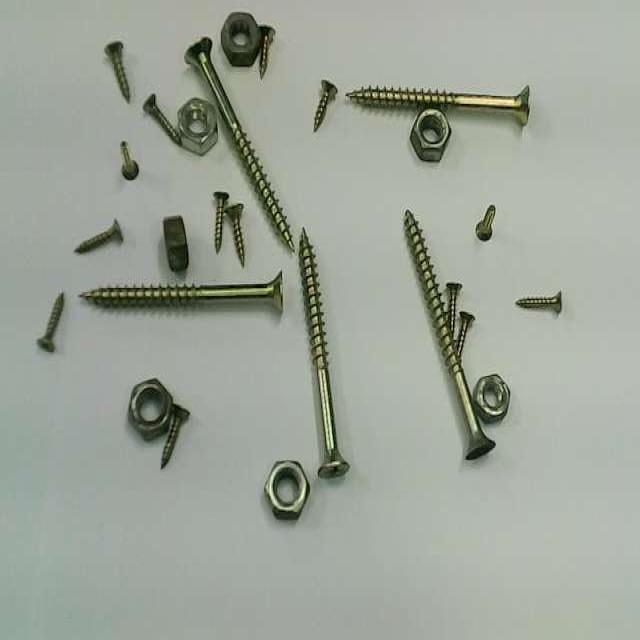Parafuso: (185, 37, 294, 251), (405, 212, 494, 457), (300, 228, 348, 475), (82, 272, 282, 311), (346, 85, 528, 124), (143, 93, 180, 145), (161, 405, 188, 467), (37, 292, 63, 351), (75, 220, 122, 252), (105, 43, 130, 101), (314, 79, 336, 131), (225, 205, 244, 265), (446, 283, 461, 345), (214, 192, 228, 252), (516, 291, 561, 309), (457, 311, 474, 357), (260, 25, 275, 77), (476, 204, 495, 240)
Porca: (129, 379, 188, 439), (265, 460, 309, 519), (178, 97, 216, 155), (410, 109, 450, 160), (221, 12, 260, 64), (474, 376, 509, 421), (164, 216, 188, 269), (121, 141, 138, 179)
